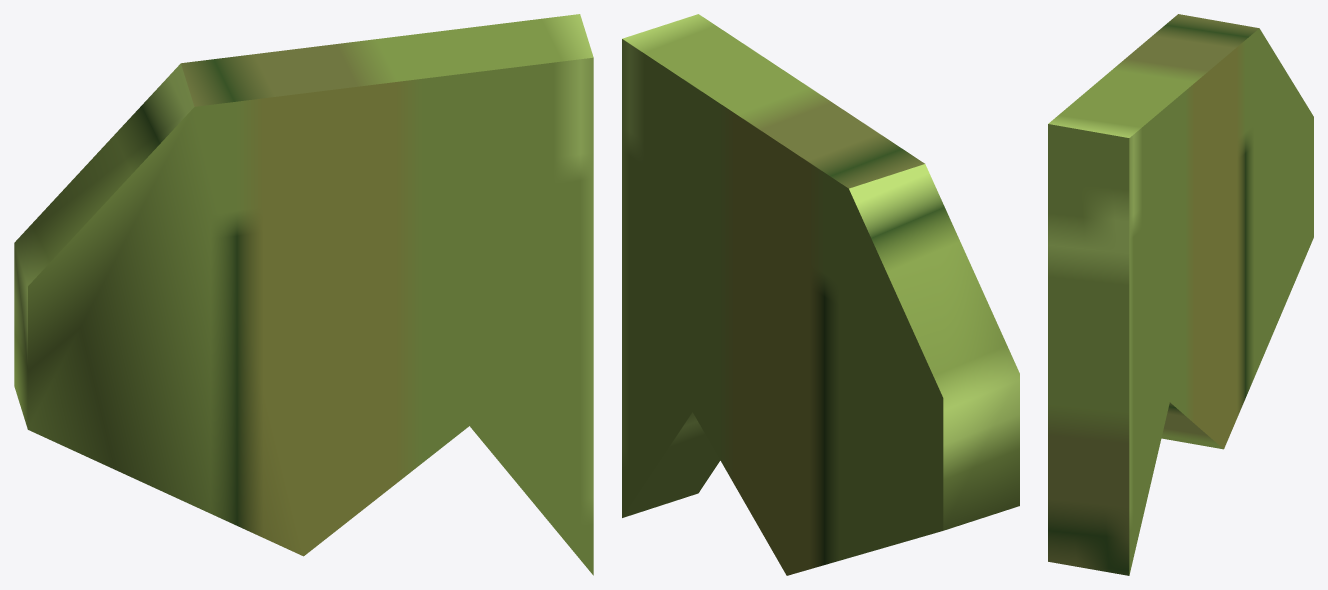
File: b_gib_03.glb
3 views of the same model, side by side, from view 1: azimuth 30°, elevation 25°; view 2: azimuth 150°, elevation 25°; view 3: azimuth 270°, elevation 25° (orthographic). The views are drawn at different scales.
Parts seen in each view (by area): view 1: gib#02; view 2: gib#02; view 3: gib#02.
Part boxes in pixels (bbox=[...]): gib#02: bbox=[14, 14, 593, 575]; gib#02: bbox=[622, 14, 1019, 575]; gib#02: bbox=[1048, 14, 1313, 575].
Size of the model in its own units: 0.1544 by 0.1557 by 0.0856.
Materials: 1 (1 with a texture image).
